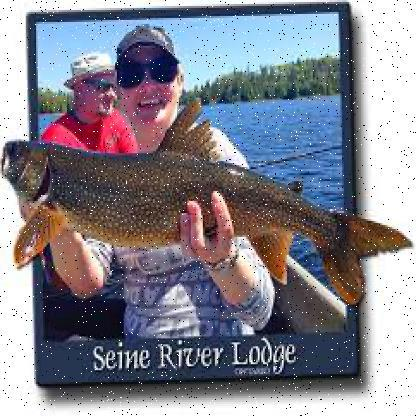fish: (0, 130, 402, 310)
